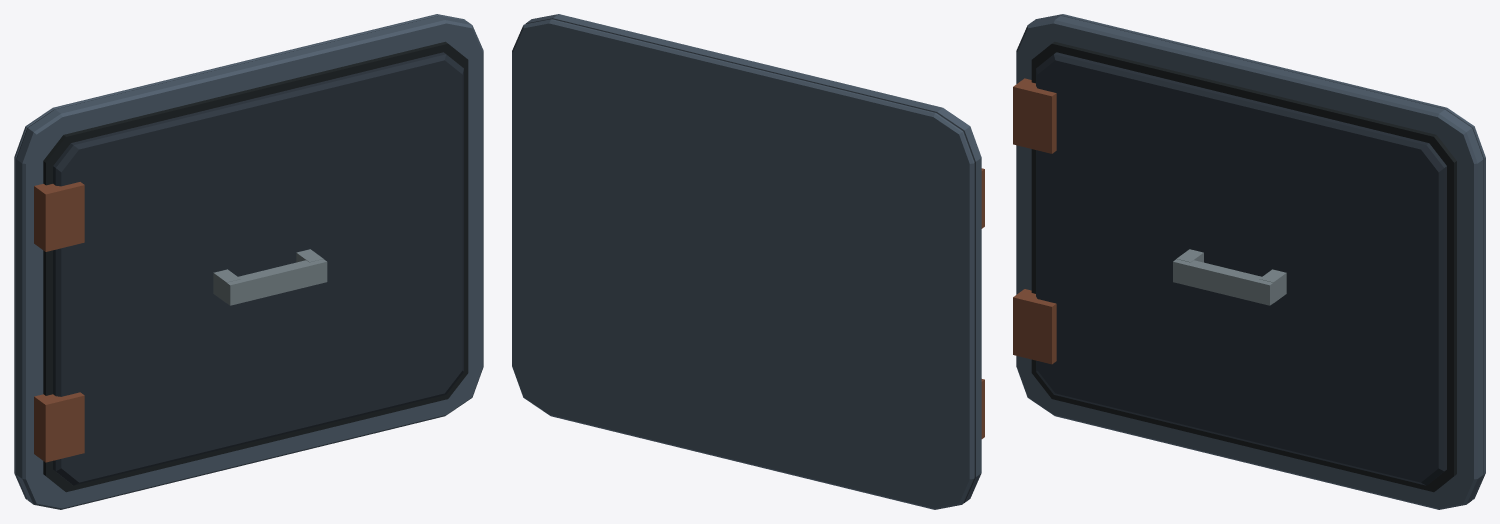
The model's file is K-02_inspection_hatch.glb.
3 views of the same model, side by side, from view 1: azimuth 30°, elevation 25°; view 2: azimuth 150°, elevation 25°; view 3: azimuth 330°, elevation 25° (orthographic).
Parts seen in each view (by area): view 1: K-02_inspection_hatch; view 2: K-02_inspection_hatch; view 3: K-02_inspection_hatch.
Part boxes in pixels (x1,y1,x2,y2): K-02_inspection_hatch: (14,14,483,509); K-02_inspection_hatch: (512,14,984,509); K-02_inspection_hatch: (1013,14,1485,509).
Size of the model in its own units: 0.78 by 0.64 by 0.103.
